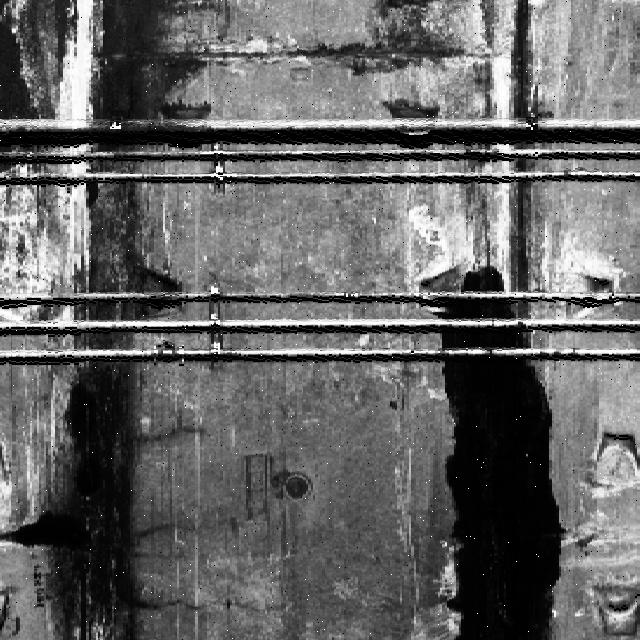leakage: (1, 4, 211, 639), (435, 253, 561, 639)
